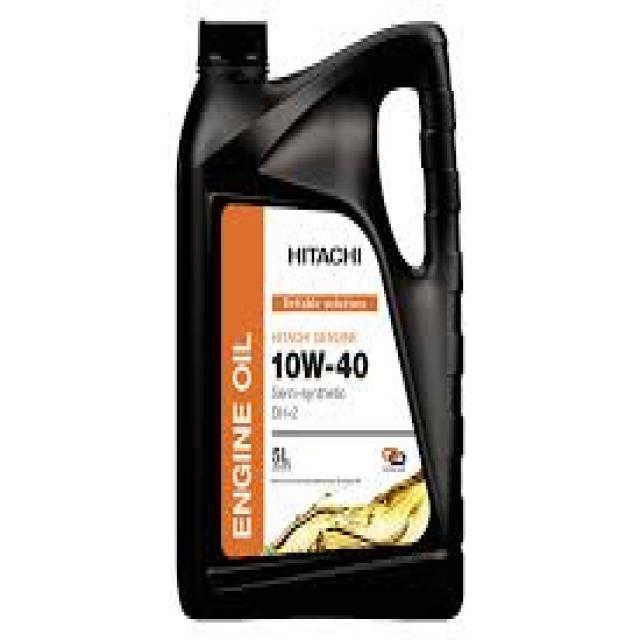motor_oil: (172, 12, 470, 627)
